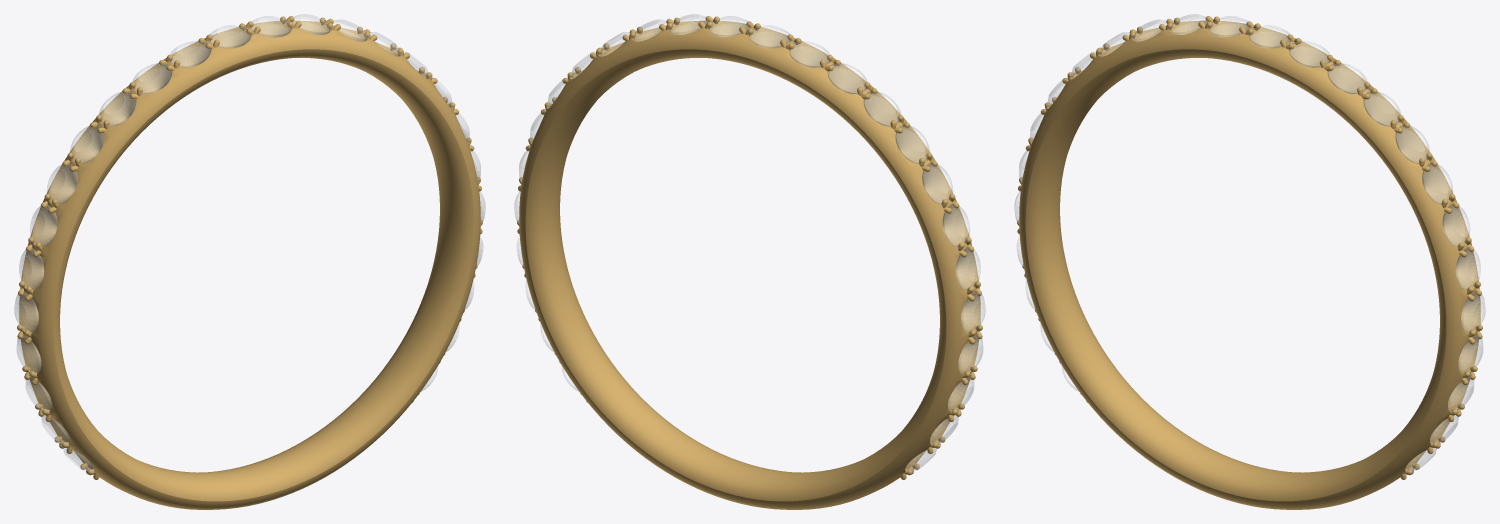
The model's file is layouts-three-quarter-eternity.glb.
The picture shows the model from 3 angles, left to right: view 1: azimuth 30°, elevation 25°; view 2: azimuth 150°, elevation 25°; view 3: azimuth 330°, elevation 25°; orthographic projection.
Visible parts, largest first — view 1: Band, Gem.008, Gem.007, Gem.009, Gem.006, Gem.010, Gem.011, Gem.005, Gem.004, Gem.012, Gem.003, Gem.013 (+2 smaller); view 2: Band, Gem.008, Gem.007, Gem.009, Gem.006, Gem.010, Gem.011, Gem.005, Gem.004, Gem.012, Gem.003, Gem.013 (+2 smaller); view 3: Band, Gem.017, Gem.018, Gem.016, Gem.019, Gem.015, Gem.014, Gem.020, Gem.021, Gem.013, Gem.022, Gem.012 (+2 smaller).
Boxes of the visible parts, <box> form: Band: <box>19,20,480,509</box>; Gem.008: <box>70,125,104,163</box>; Gem.007: <box>47,163,77,203</box>; Gem.009: <box>99,92,135,126</box>; Gem.006: <box>30,205,57,246</box>; Gem.010: <box>132,63,171,93</box>; Gem.011: <box>169,41,210,67</box>; Gem.005: <box>19,248,43,290</box>; Gem.004: <box>14,292,38,333</box>; Gem.012: <box>209,25,250,48</box>; Gem.003: <box>17,335,41,374</box>; Gem.013: <box>250,16,291,37</box>; Band: <box>519,20,980,509</box>; Gem.008: <box>895,125,929,163</box>; Gem.007: <box>922,163,952,203</box>; Gem.009: <box>864,92,900,126</box>; Gem.006: <box>942,205,969,246</box>; Gem.010: <box>828,63,867,93</box>; Gem.011: <box>789,41,830,67</box>; Gem.005: <box>956,248,980,290</box>; Gem.004: <box>961,292,985,333</box>; Gem.012: <box>749,25,790,48</box>; Gem.003: <box>958,335,982,374</box>; Gem.013: <box>708,16,749,37</box>; Band: <box>1019,20,1480,509</box>; Gem.017: <box>1395,125,1429,163</box>; Gem.018: <box>1422,163,1452,203</box>; Gem.016: <box>1364,92,1400,126</box>; Gem.019: <box>1442,205,1469,246</box>; Gem.015: <box>1328,63,1367,93</box>; Gem.014: <box>1289,41,1330,67</box>; Gem.020: <box>1456,248,1480,290</box>; Gem.021: <box>1461,292,1485,333</box>; Gem.013: <box>1249,25,1290,48</box>; Gem.022: <box>1458,335,1482,374</box>; Gem.012: <box>1208,16,1249,37</box>.
Bounding box in the file's own units: 20 × 19.79 × 2.1.
